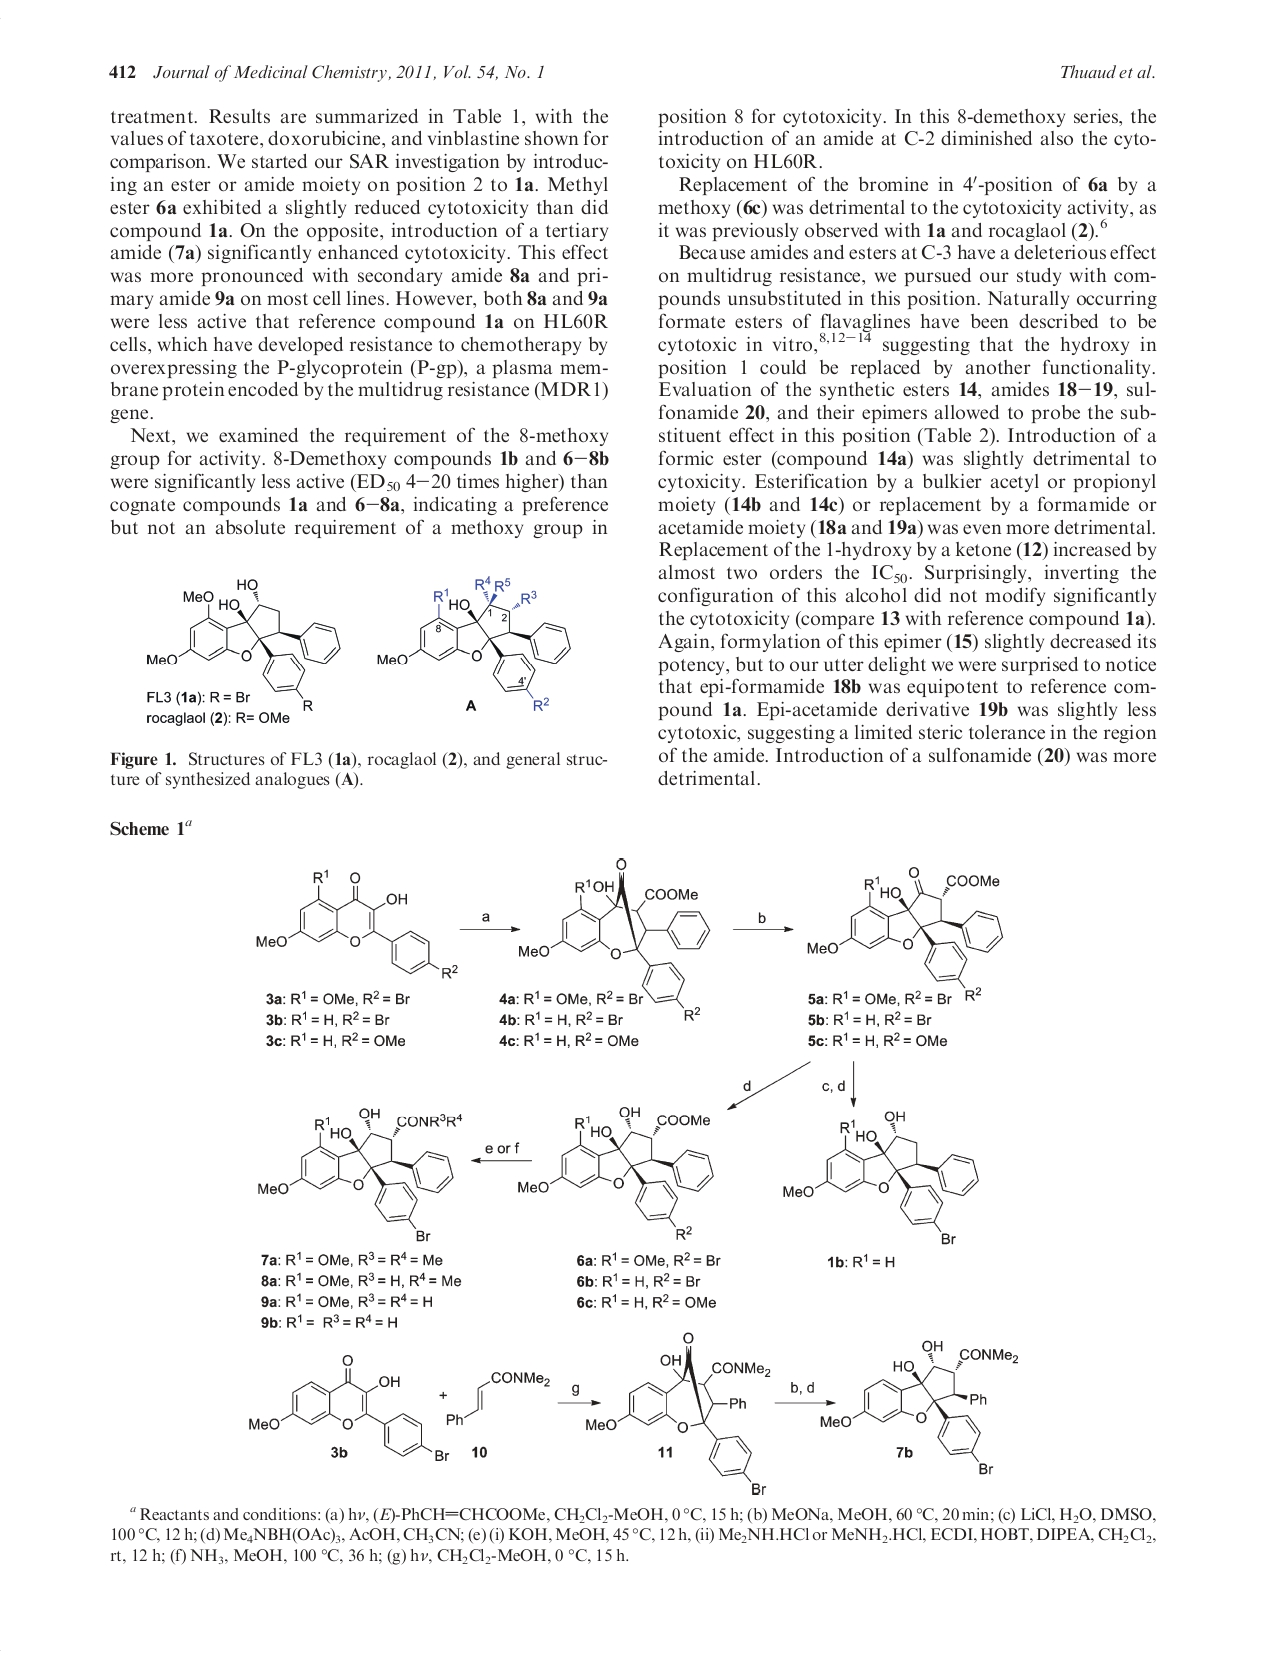exist_molecular: (582, 1329, 779, 1496), (516, 856, 711, 1021), (253, 1102, 461, 1246), (802, 856, 1005, 1003), (817, 1337, 1021, 1481), (513, 1102, 715, 1243), (372, 575, 574, 714), (144, 575, 343, 714), (778, 1110, 980, 1246), (253, 862, 460, 981), (243, 1354, 449, 1474), (438, 1362, 552, 1430)
